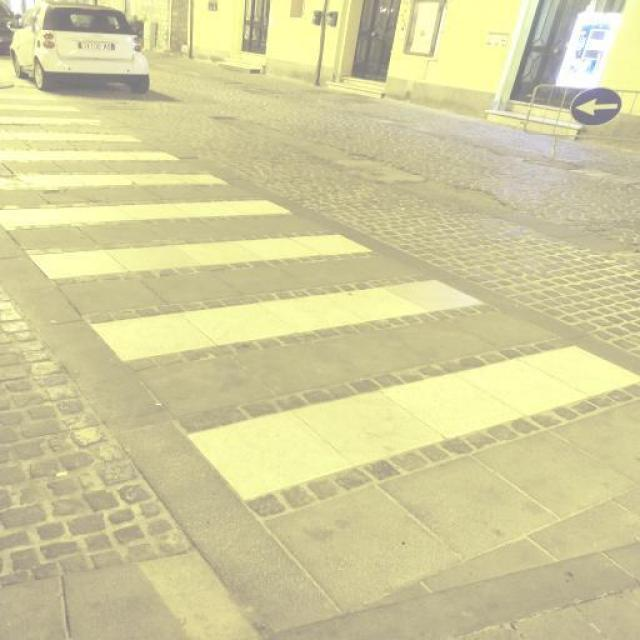crosswalk: (2, 92, 640, 517)
